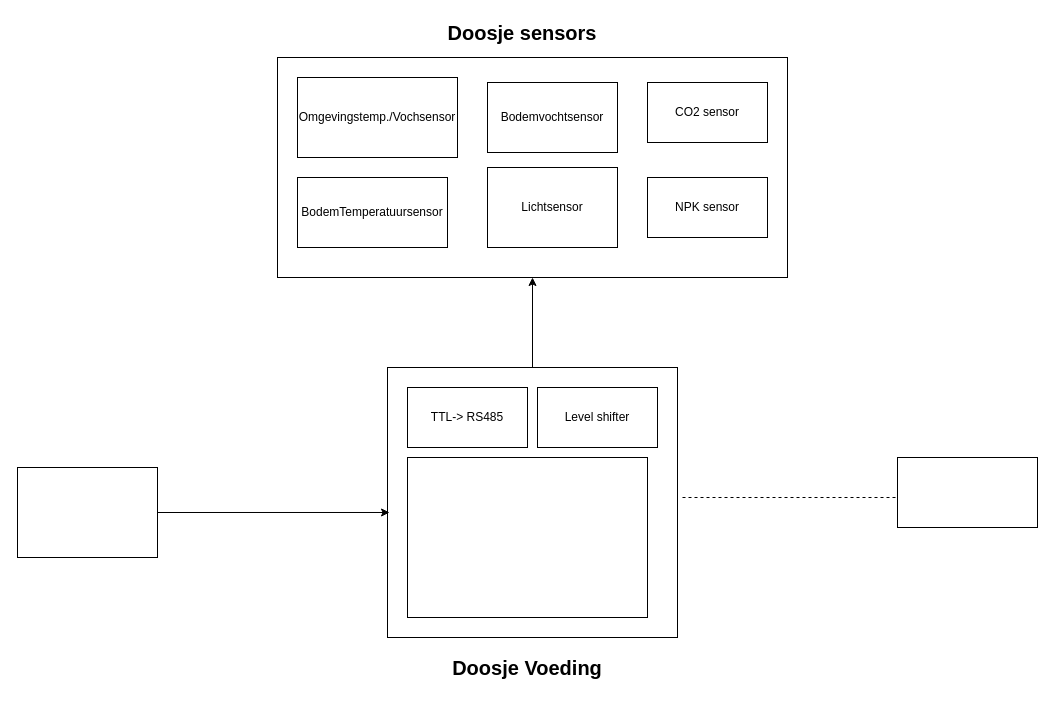
Some shapes in this 1055 by 704 pixel diagram are drawn without their labels. Each missing label, with the centre of its shape:
"ESP-32" belongs at point 527,537.
"Home assistent" belongs at point 967,492.
"Voeding" belongs at point 87,512.
